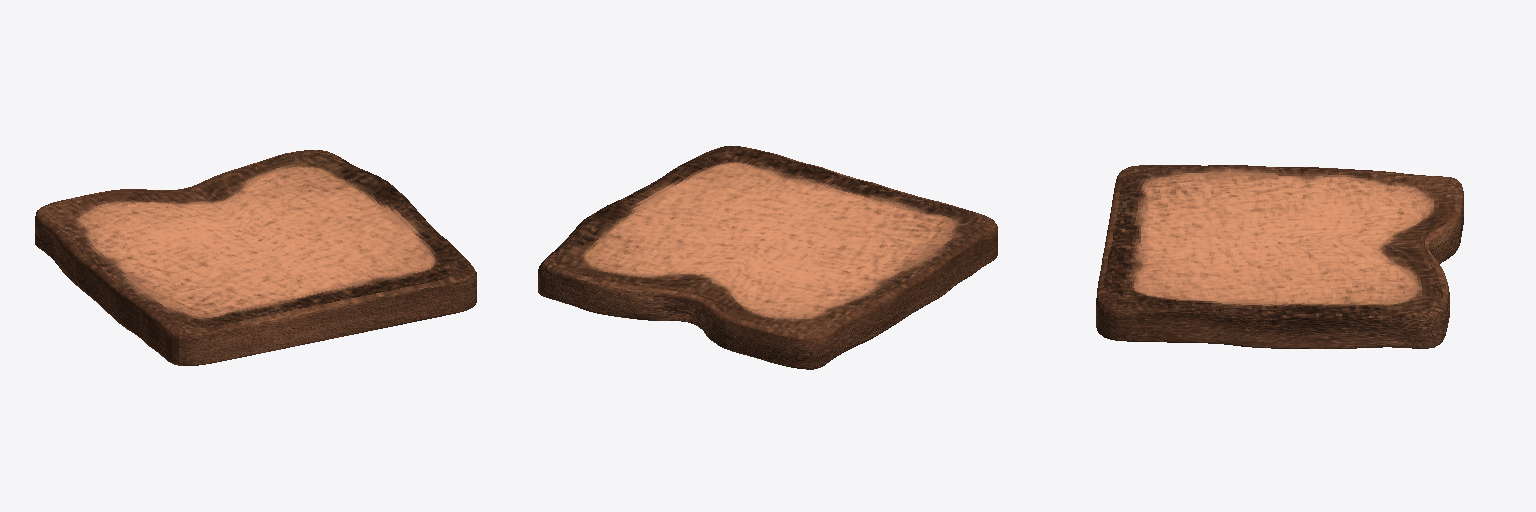
The picture shows the model from 3 angles: view 1: azimuth 30°, elevation 25°; view 2: azimuth 150°, elevation 25°; view 3: azimuth 270°, elevation 25°; orthographic projection.
Parts seen in each view (by area): view 1: Cube.001; view 2: Cube.001; view 3: Cube.001.
Part boxes in pixels (bbox=[...]): Cube.001: bbox=[35, 150, 476, 365]; Cube.001: bbox=[538, 146, 997, 369]; Cube.001: bbox=[1096, 165, 1463, 348].
Bounding box in the file's own units: 2.11 × 0.2322 × 2.12.
1 materials, 1 textured.